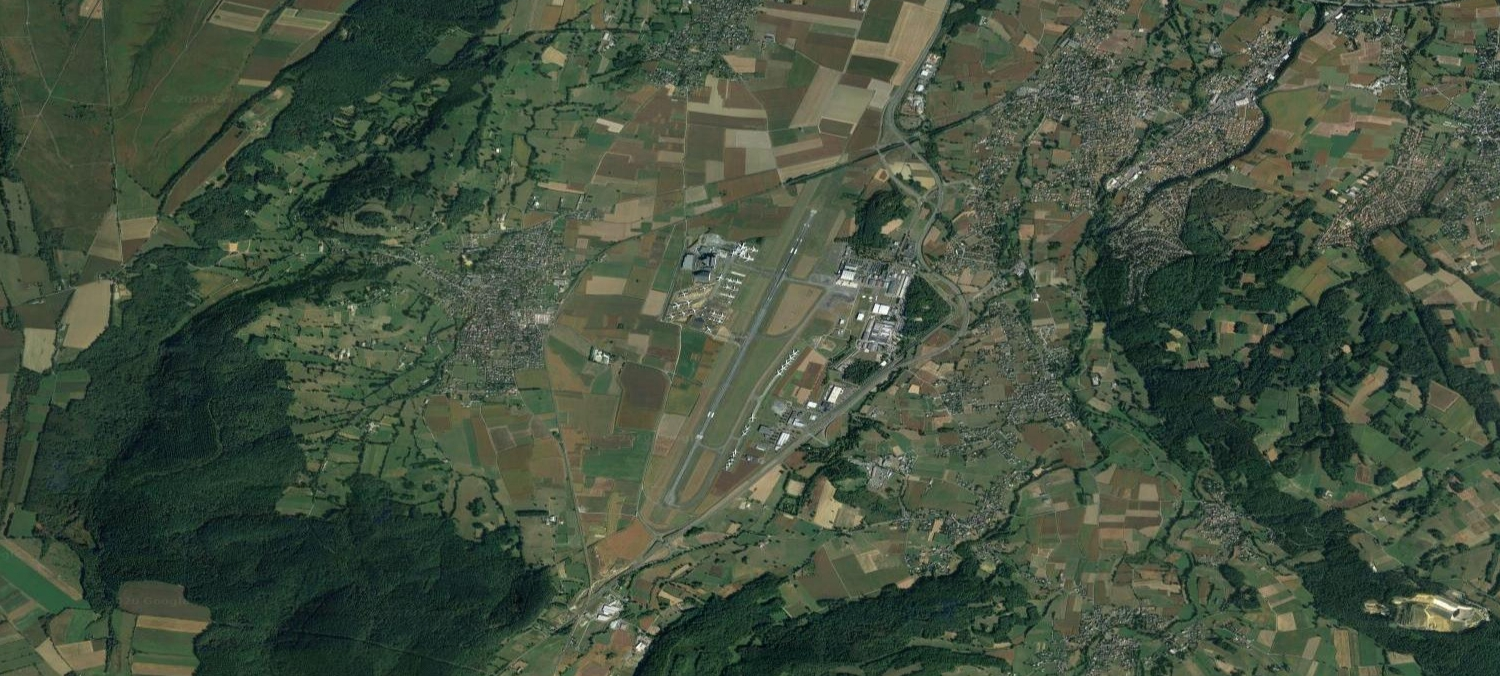airport: (658, 202, 861, 511)
motorway: (580, 524, 698, 613), (698, 450, 795, 524), (795, 378, 885, 450), (885, 318, 968, 377), (887, 103, 941, 182), (546, 600, 596, 676), (916, 252, 970, 318), (892, 46, 932, 105), (915, 179, 945, 256), (924, 1, 955, 49)
